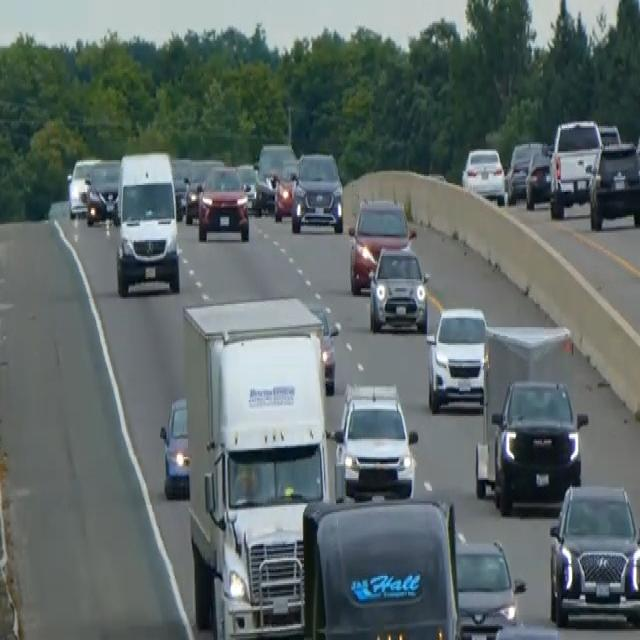car: (476, 375, 588, 514), (548, 482, 639, 628), (332, 380, 418, 500), (454, 534, 525, 638), (425, 304, 488, 412), (348, 195, 414, 294), (368, 244, 429, 332), (549, 117, 603, 210), (587, 140, 639, 230), (290, 149, 344, 233), (197, 162, 250, 242), (159, 394, 190, 500), (254, 140, 296, 213), (309, 302, 338, 393), (461, 146, 506, 204), (505, 138, 544, 202), (183, 158, 220, 224), (85, 158, 120, 226), (66, 156, 99, 217), (524, 146, 552, 208), (272, 158, 298, 220), (170, 156, 193, 217), (490, 620, 567, 638), (236, 160, 260, 213), (183, 174, 204, 224), (598, 122, 621, 148), (633, 126, 639, 224)
lorry: (181, 294, 333, 638), (301, 494, 462, 638)
minibus: (113, 147, 181, 297)
